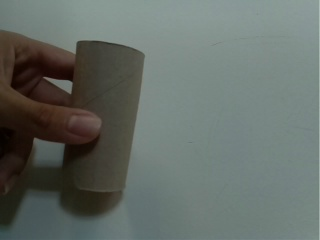rollo papel: (59, 38, 149, 191)
